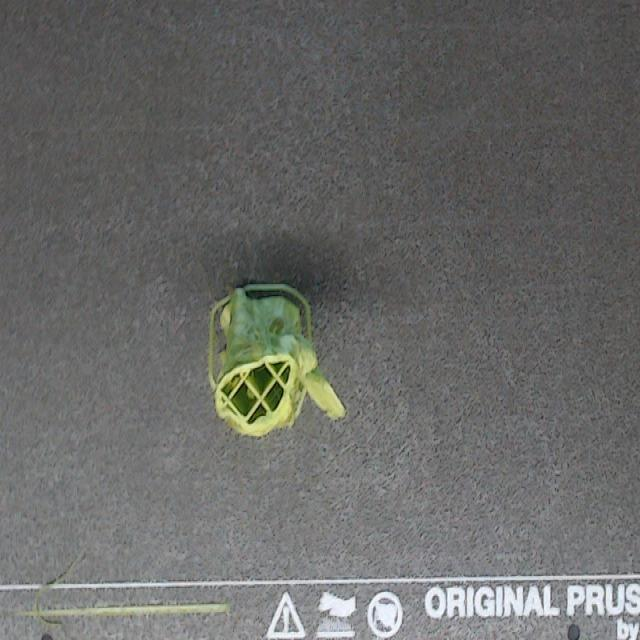mistake: (270, 318, 282, 333)
